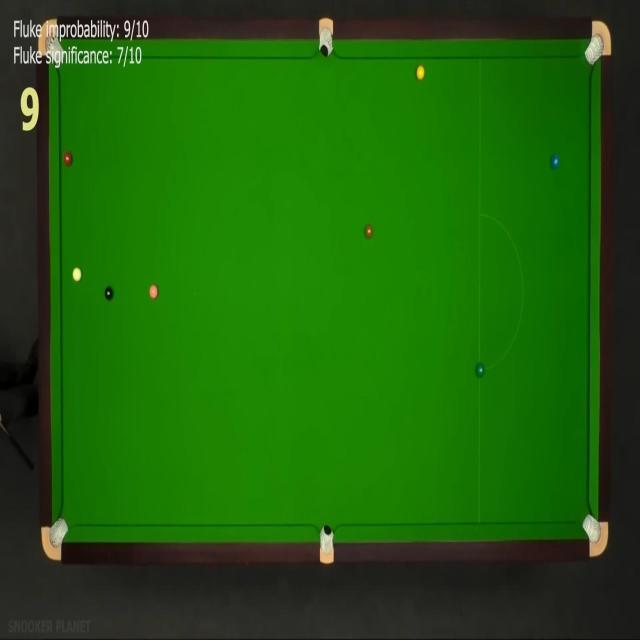Ball: (474, 362, 486, 378), (72, 266, 82, 282), (148, 284, 158, 298), (63, 152, 73, 166), (416, 65, 425, 80), (105, 286, 114, 300), (552, 155, 560, 169), (365, 225, 373, 238)
